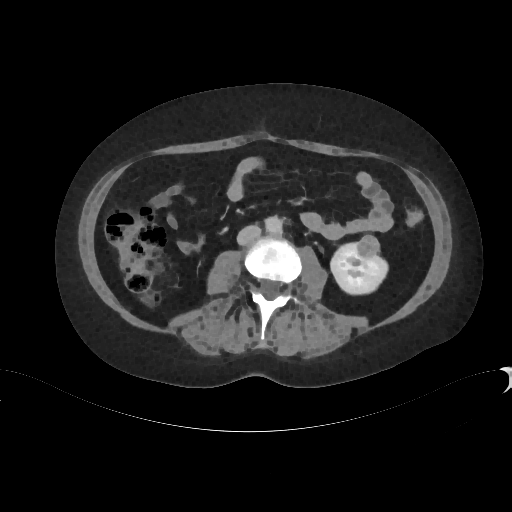Lesion: (356, 232, 381, 261)
